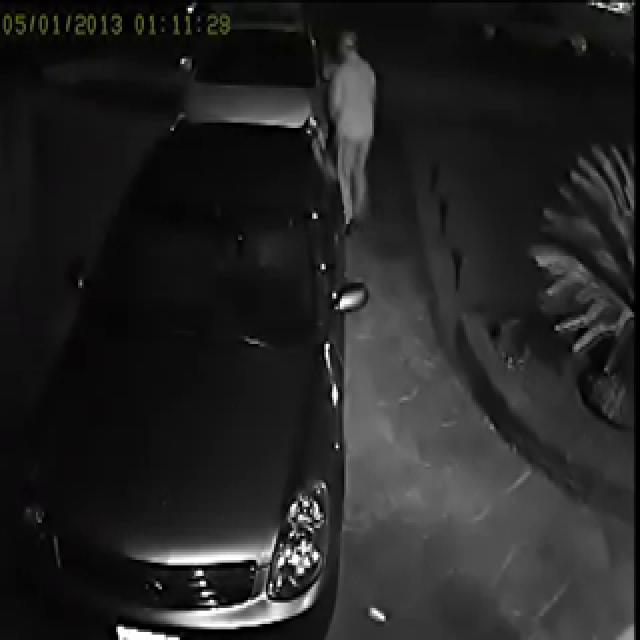vandalism: (230, 1, 515, 468)
